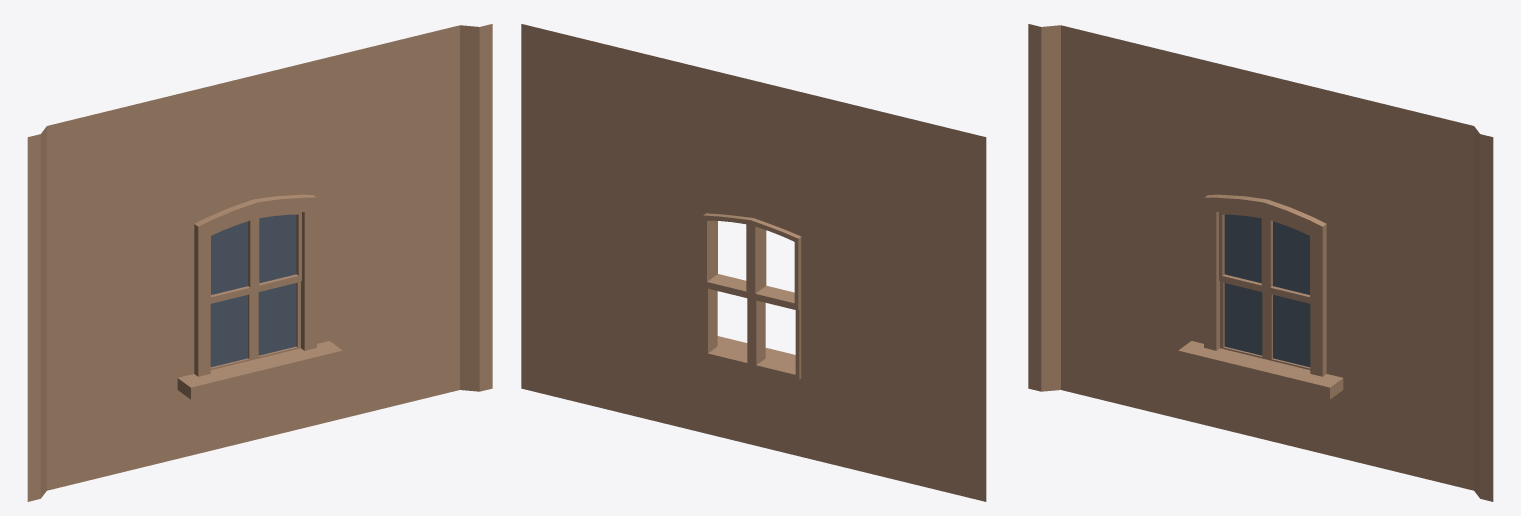
The model's file is env_block_brick_inset_window_curved_small.glb.
The picture shows the model from 3 angles, left to right: view 1: azimuth 30°, elevation 25°; view 2: azimuth 150°, elevation 25°; view 3: azimuth 330°, elevation 25°; orthographic projection.
Parts seen in each view (by area): view 1: part_0, part_1; view 2: part_0; view 3: part_0, part_1.
Boxes of the visible parts, x1=… form: part_0: x1=27, y1=24, x2=492, y2=501; part_1: x1=210, y1=214, x2=296, y2=367; part_0: x1=521, y1=24, x2=986, y2=501; part_0: x1=1028, y1=24, x2=1493, y2=501; part_1: x1=1224, y1=214, x2=1310, y2=367.
Bounding box in the file's own units: 4 × 3 × 0.3426.
